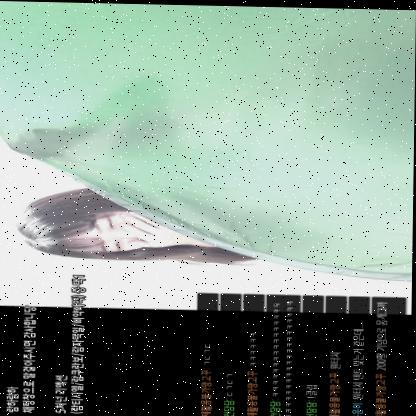streamer: (5, 77, 415, 266)
